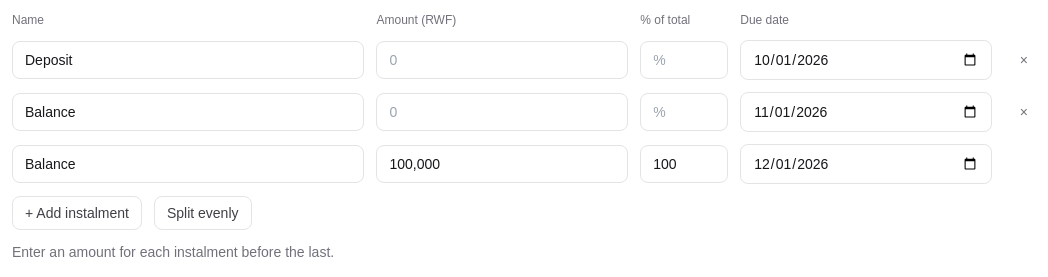
Scenario: InstallmentsEditor › splits the total evenly, leaving the balance as the remainder
Click the button "Split evenly". click: (203, 213)
box: [154,196,252,230]
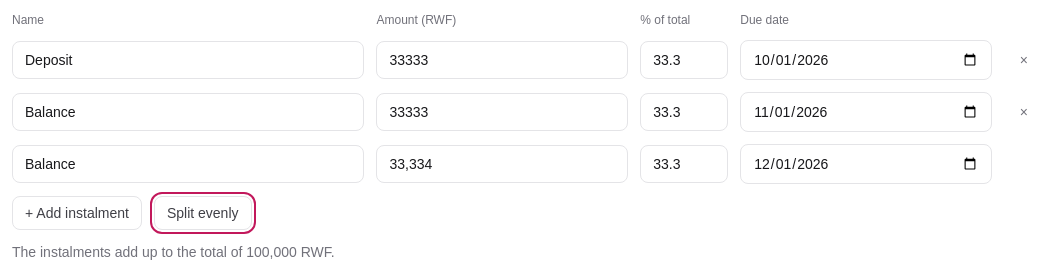
expect the field named "Amount for instalment 1" holds "33333": met, box [376,41,628,79]
expect the field named "Amount for instalment 2" holds "33333": met, box [376,93,628,131]
expect the field named "Amount for instalment 3" holds "33,334": met, box [376,145,628,183]
